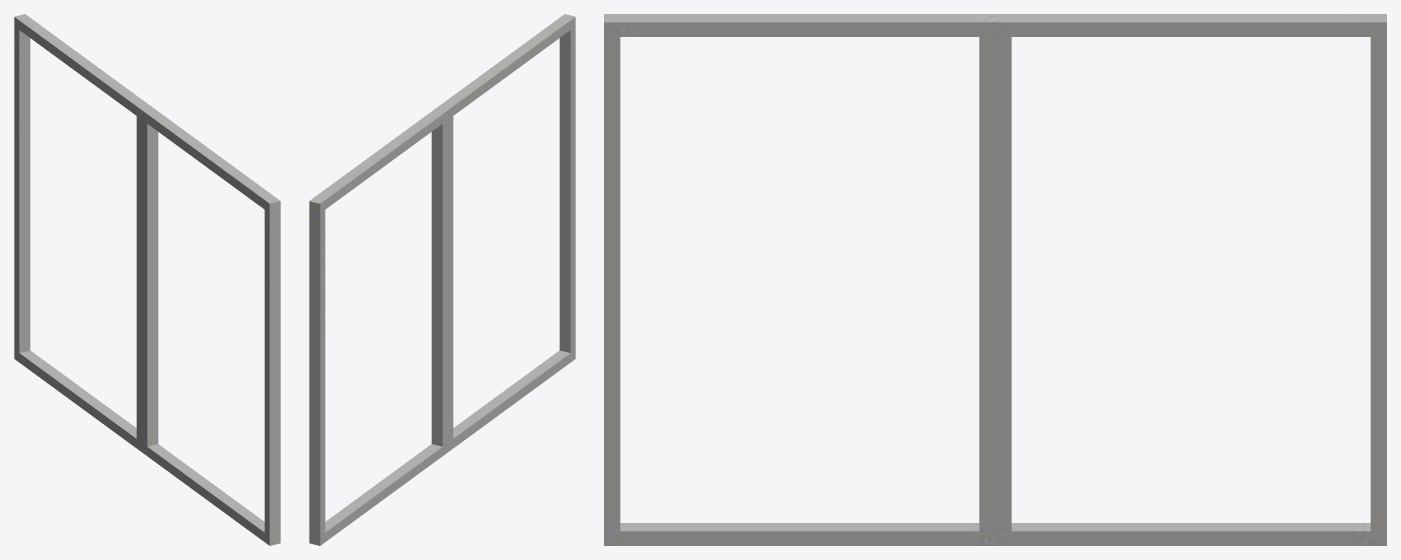
File: Window2_0001.obj
3 views of the same model, side by side, from view 1: azimuth 30°, elevation 25°; view 2: azimuth 150°, elevation 25°; view 3: azimuth 270°, elevation 25° (orthographic). The views are drawn at different scales.
Bounding box in the file's own units: 0.06 × 1.78 × 2.42.
1 material, 1 textured.
